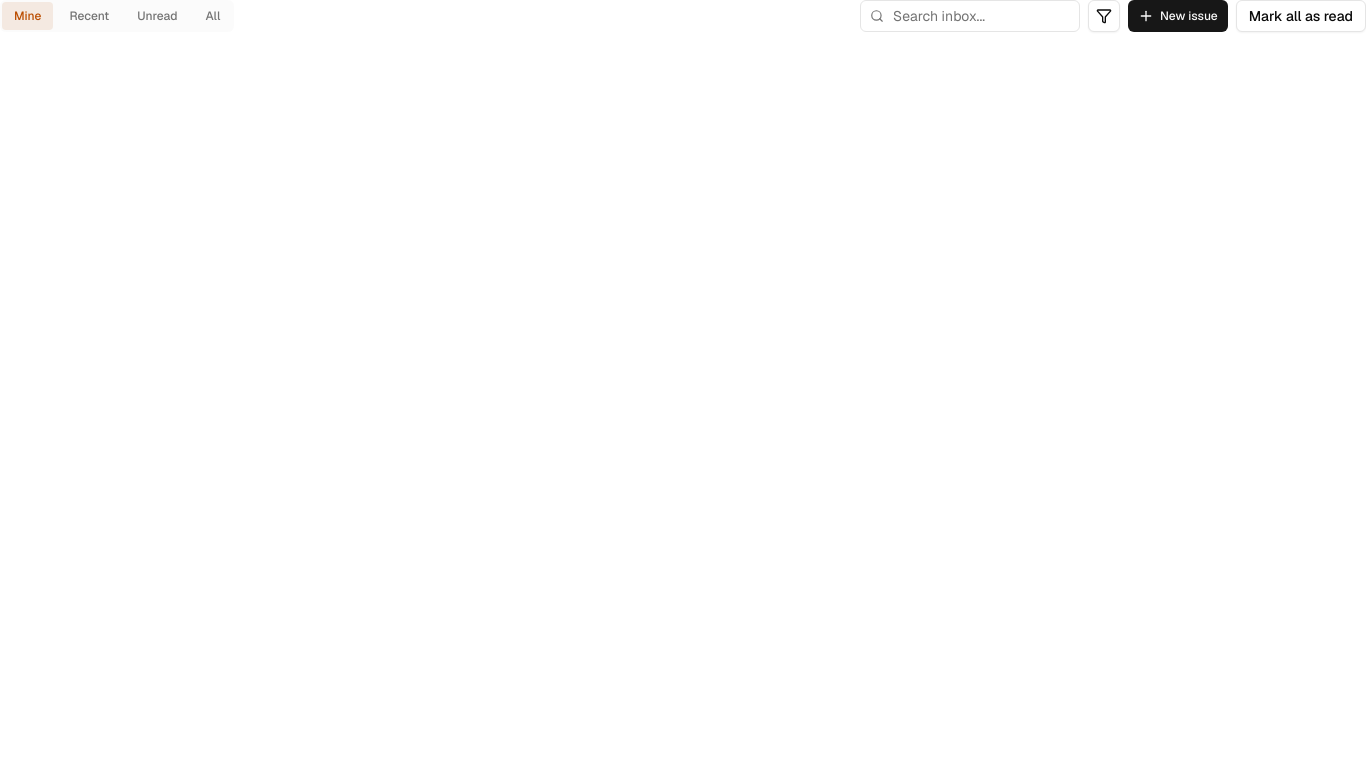
Test: InboxToolbar › Mark all dialog uses singular 'item' for unreadCount=1
The width and height of the screenshot is (1366, 768).
Click the button "Mark all as read" at {"x": 1301, "y": 16}, box [1236,0,1365,32]
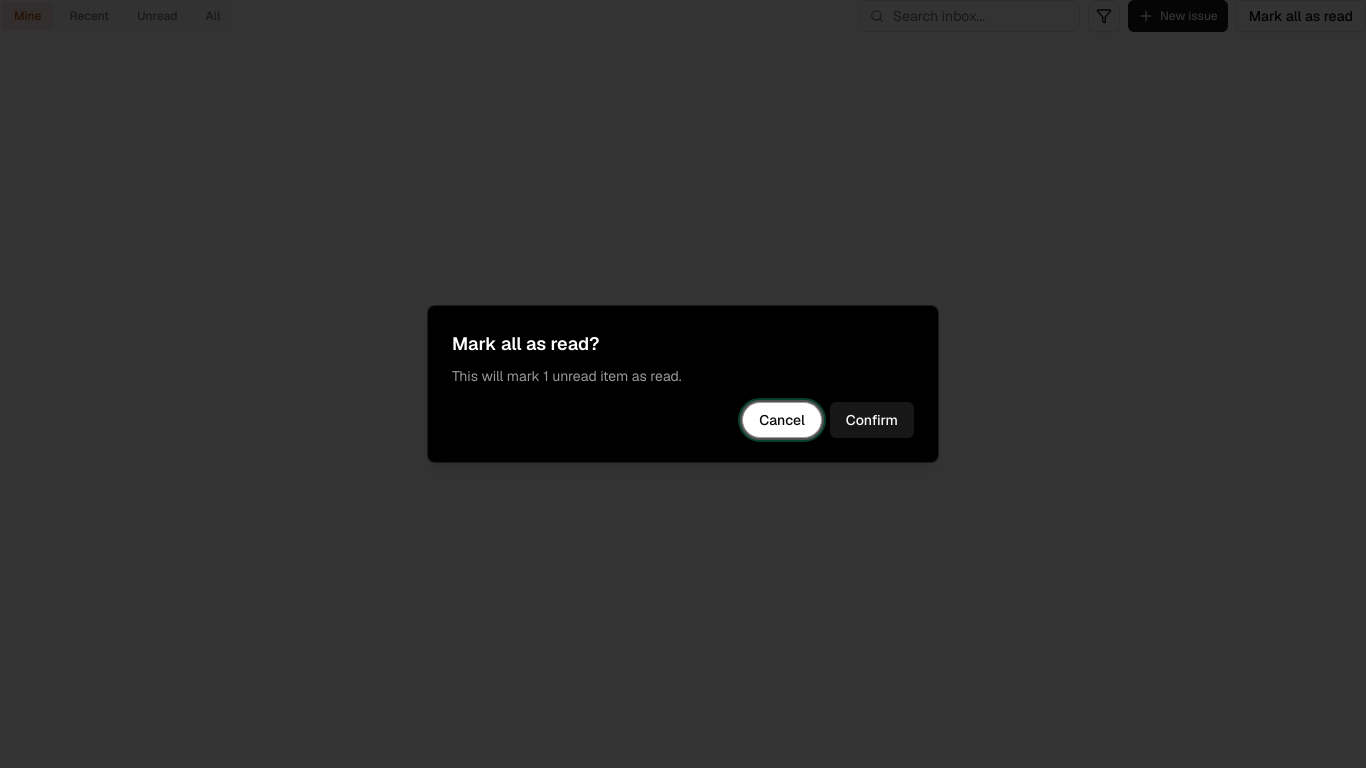
Result: the text "This will mark 1 unread item as read." is shown at [452,367,682,385]
